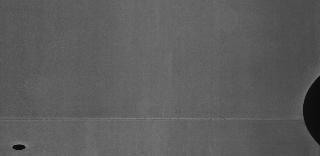punching hole: (10, 141, 28, 151)
welding line: (1, 116, 303, 125)
